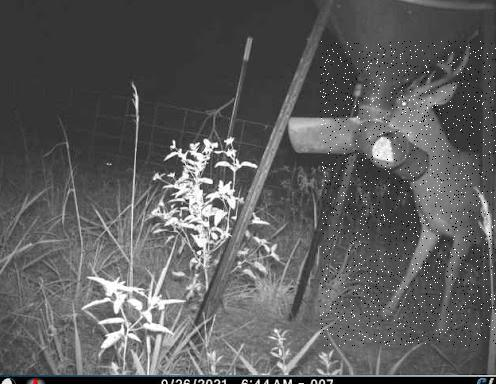Deer: (320, 41, 496, 346)
